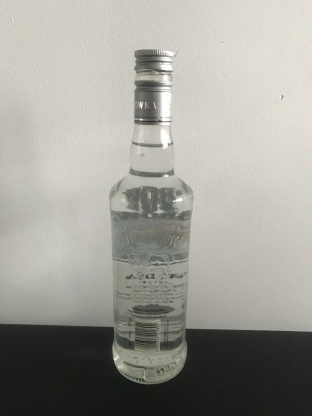nakretka: (131, 45, 176, 125)
